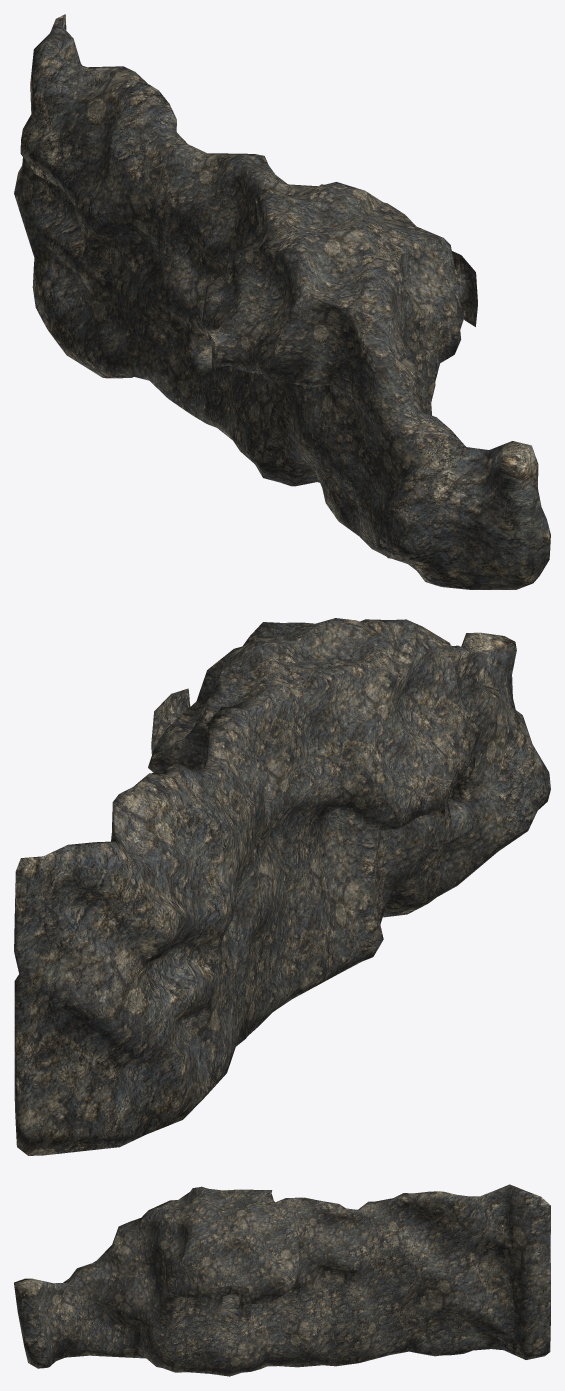
Rendered from Module23.fbx.
The picture shows the model from 3 angles, top to bottom: view 1: azimuth 30°, elevation 25°; view 2: azimuth 150°, elevation 25°; view 3: azimuth 270°, elevation 25°; orthographic projection. The views are drawn at different scales.
Parts seen in each view (by area): view 1: cave_el23_2400_Group12445; view 2: cave_el23_2400_Group12445; view 3: cave_el23_2400_Group12445.
Boxes of the visible parts, x1=… form: cave_el23_2400_Group12445: x1=14, y1=14, x2=550, y2=589; cave_el23_2400_Group12445: x1=14, y1=618, x2=550, y2=1155; cave_el23_2400_Group12445: x1=14, y1=1184, x2=550, y2=1376.
Size of the model in its own units: 40.92 by 42.69 by 122.
